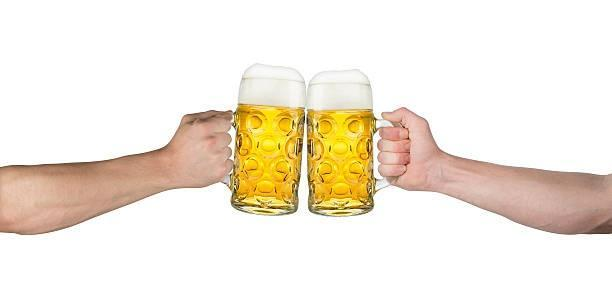glass-mug: (200, 61, 308, 219), (305, 67, 405, 219)
